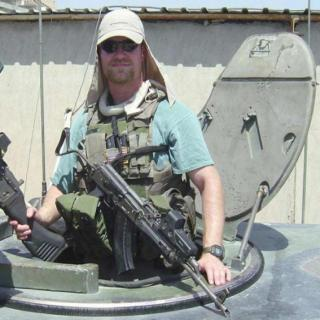gun: (54, 126, 230, 317)
